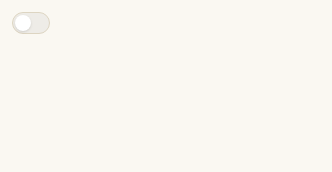
Toggle › is an accessible switch that flips on click
Step 1. Click the switch named "keep recorded audio" → (31, 23), box [12,12,50,34]
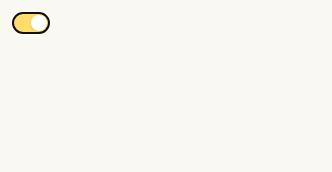
Now the switch named "keep recorded audio" is checked
Step 2. Click the switch named "keep recorded audio" → (31, 23), box [12,12,50,34]
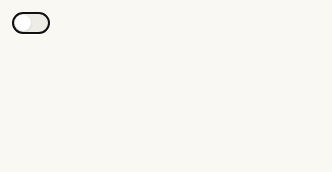
Now the switch named "keep recorded audio" is not checked, box [12,12,50,34]
